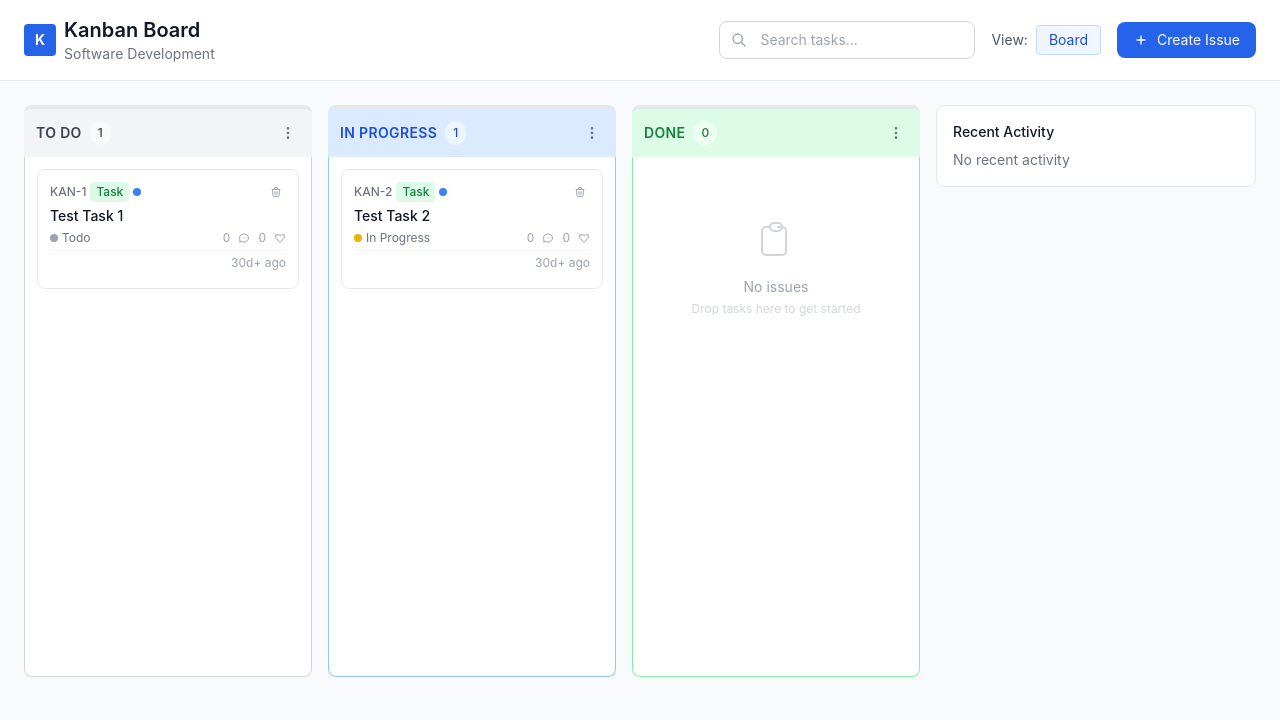
Test case: Board Component › should open task modal when create issue button is clicked
Step 1. Click the text "Create Issue" → (1198, 40), box [1157,30,1240,50]
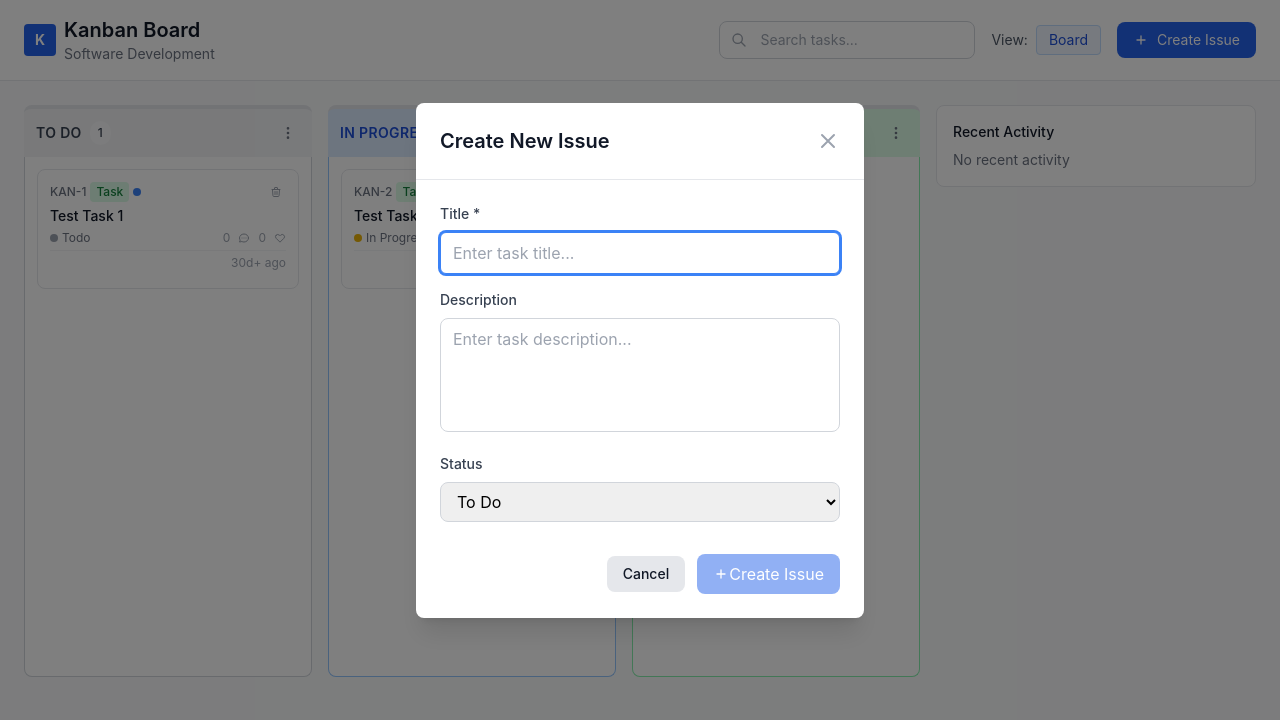
Now the heading "Create New Issue" is shown, box [440,126,610,154]
